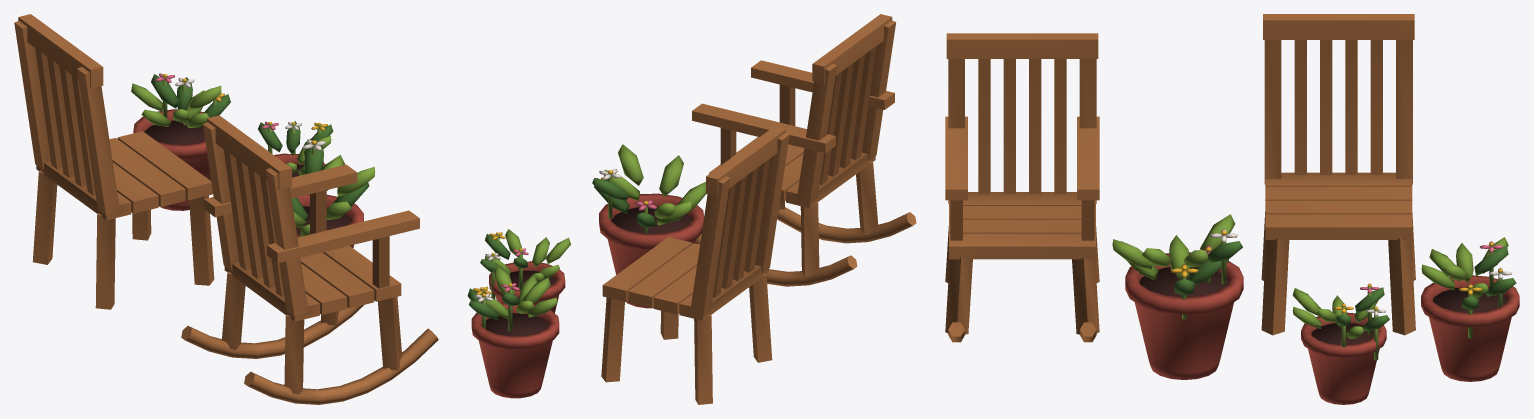
File: house.porch-a.lod1.glb
The picture shows the model from 3 angles, left to right: view 1: azimuth 30°, elevation 25°; view 2: azimuth 150°, elevation 25°; view 3: azimuth 270°, elevation 25°; orthographic projection. The views are drawn at different scales.
Size of the model in its own units: 1.36 by 1.14 by 2.27.
